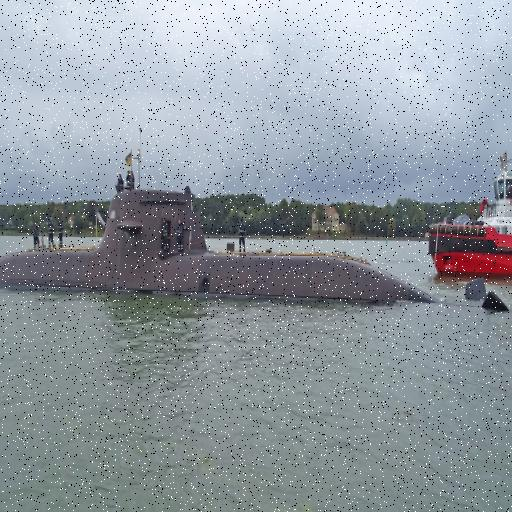submarine: (1, 168, 506, 308)
